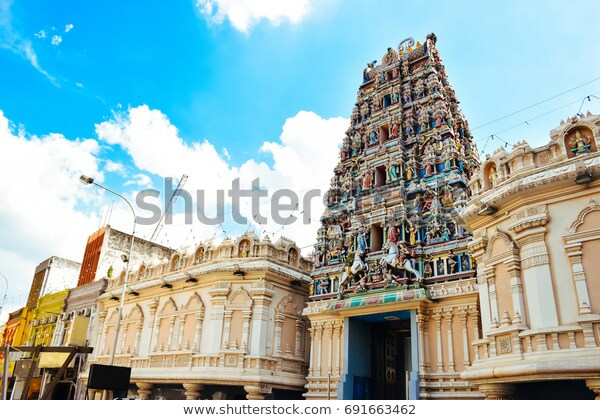Hindu Temple: (329, 40, 471, 367)
